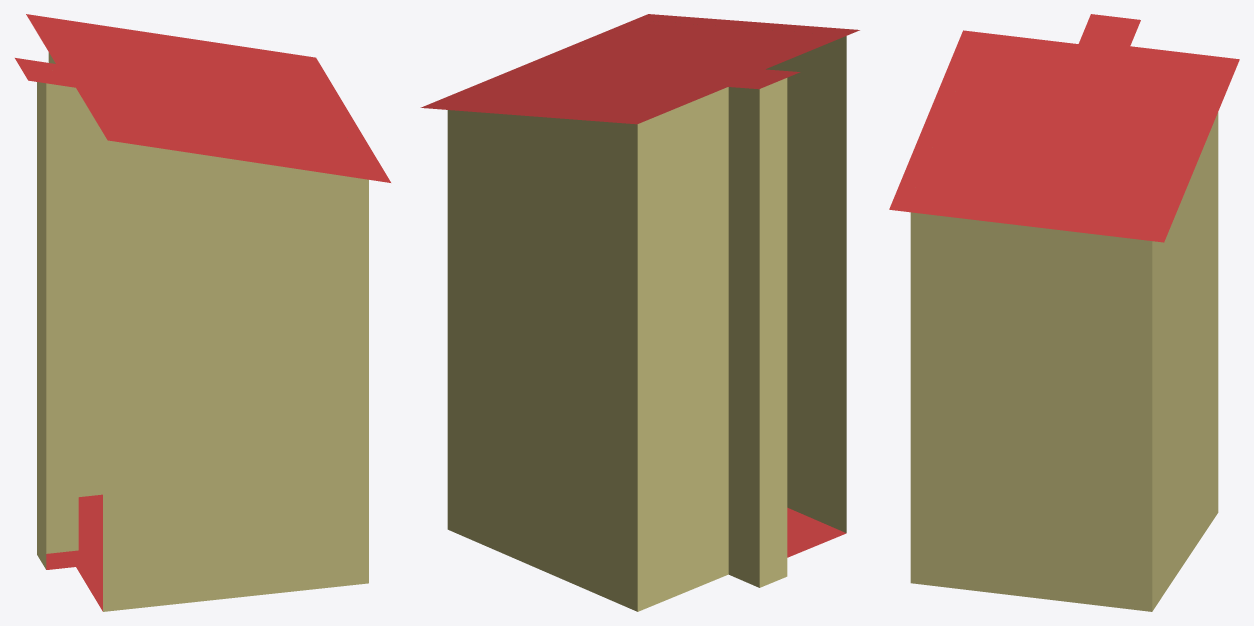
3 views of the same model, side by side, from view 1: azimuth 30°, elevation 25°; view 2: azimuth 150°, elevation 25°; view 3: azimuth 270°, elevation 25° (orthographic). The views are drawn at different scales.
Bounding box in the file's own units: 5.06 × 5.05 × 7.27.
